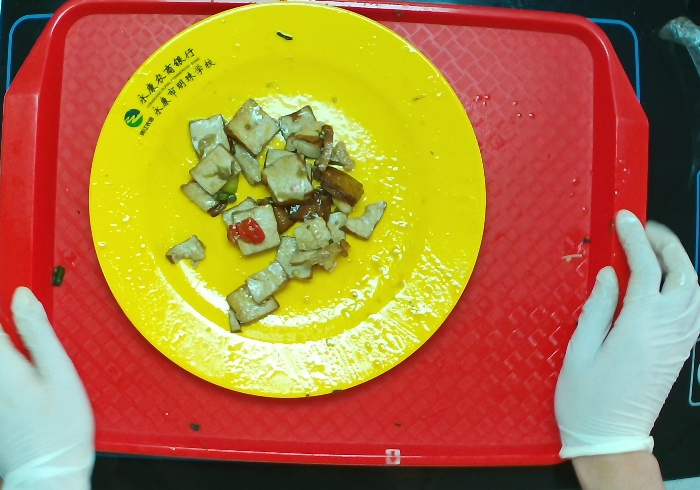YKMZ-Huang_Se_Mian_Pan: (86, 1, 488, 399)
